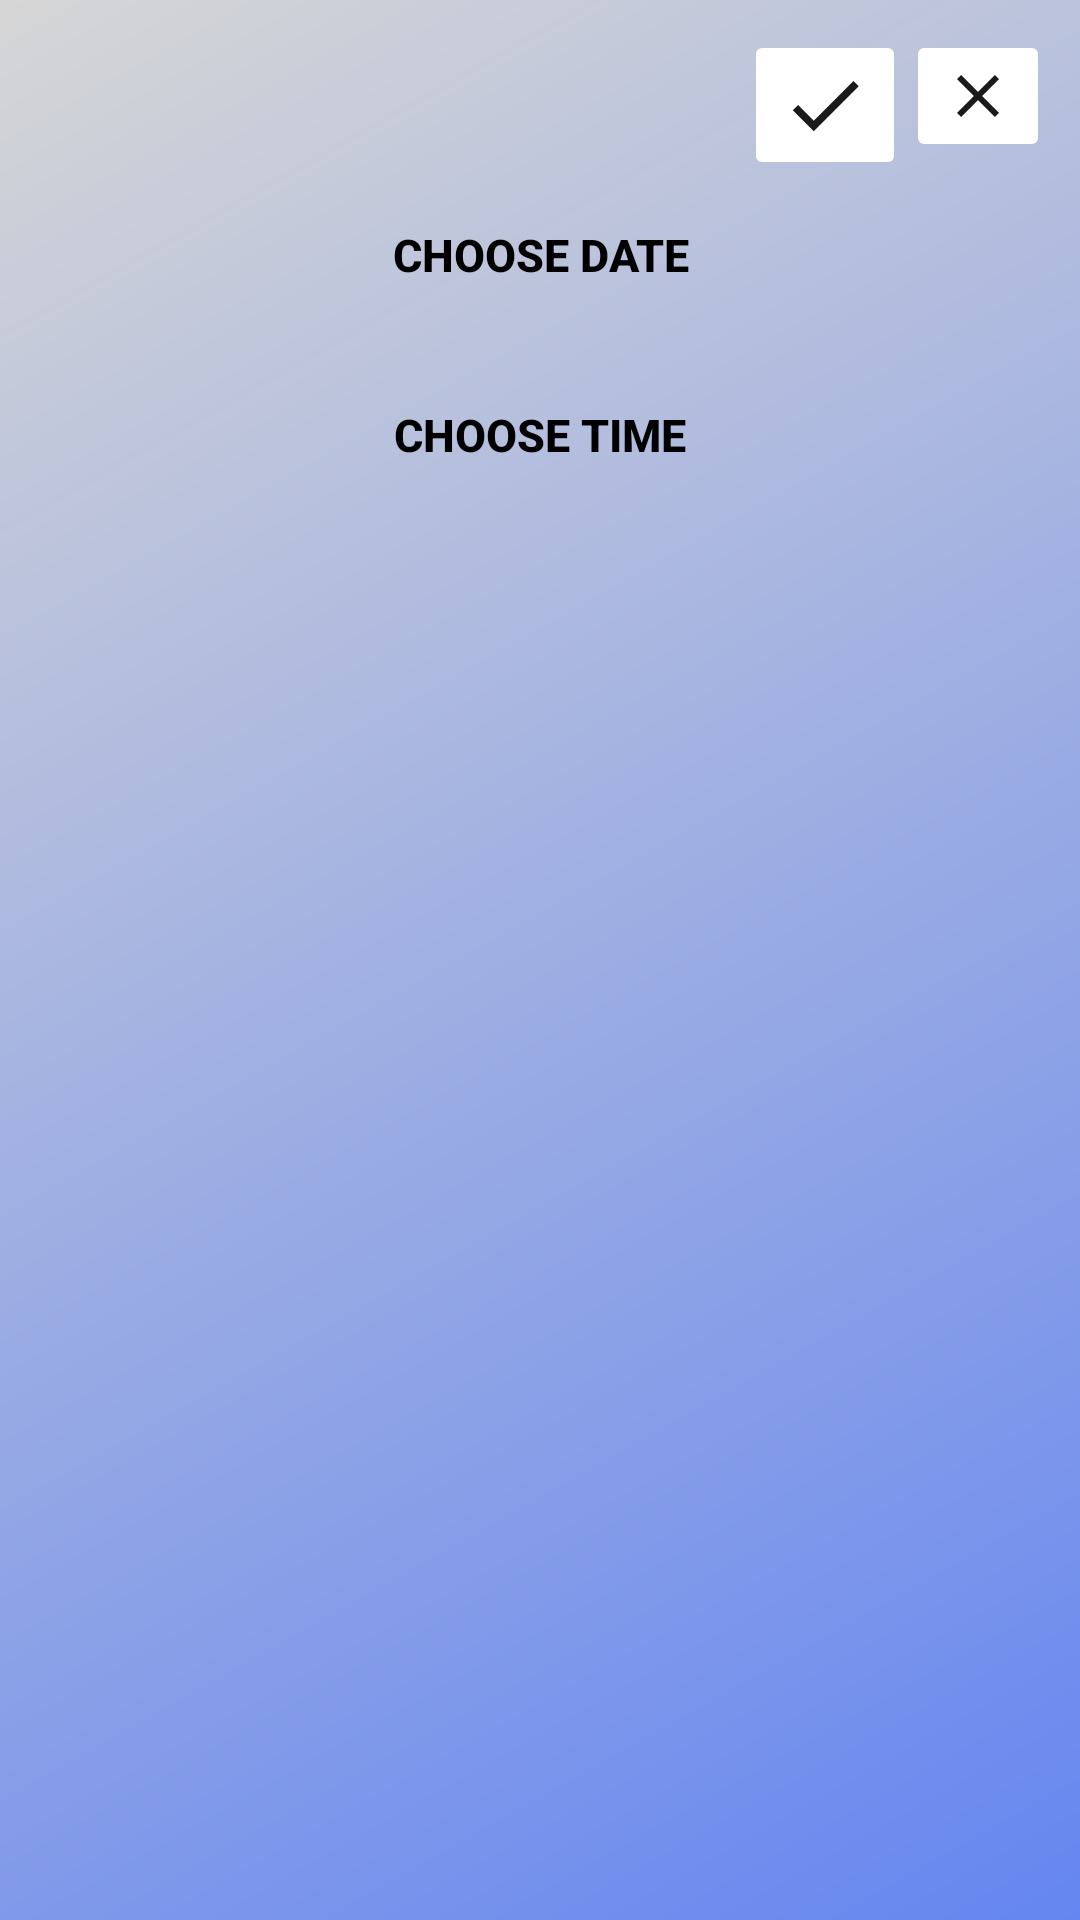

Icon click points for this 1080px x 1920px phone screenshot, format (x=x, y=y):
check: (x=825, y=105)
close: (x=978, y=96)
